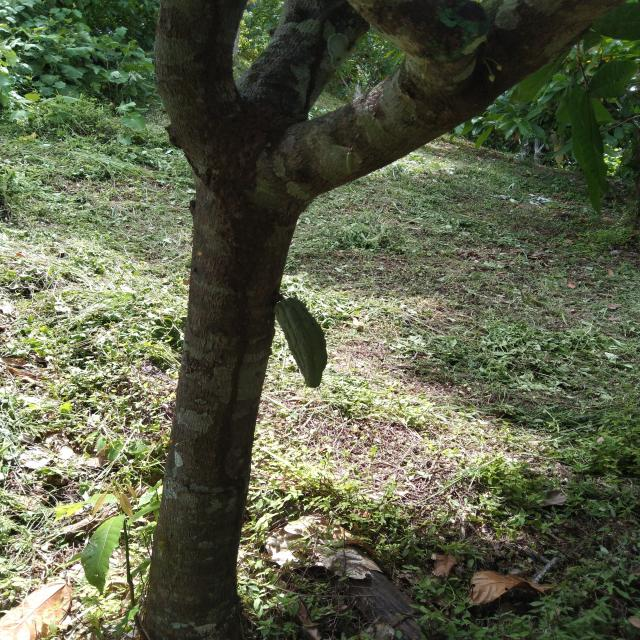Sana: (277, 294, 329, 384)
